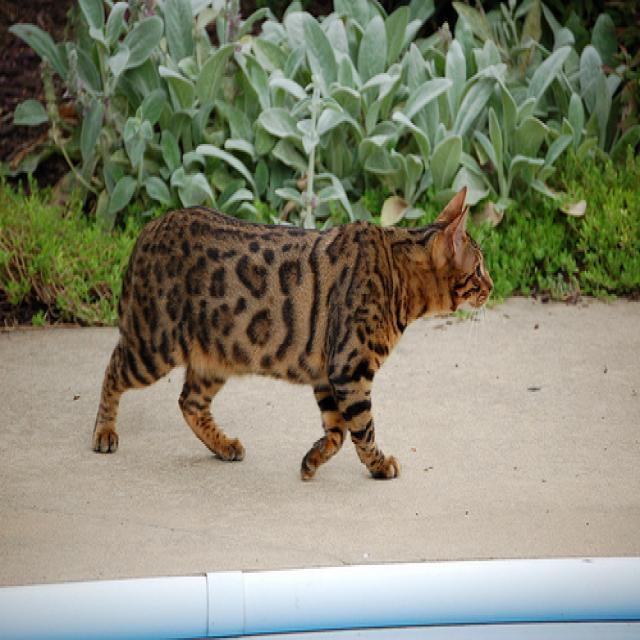Bengal: (414, 179, 501, 342)
